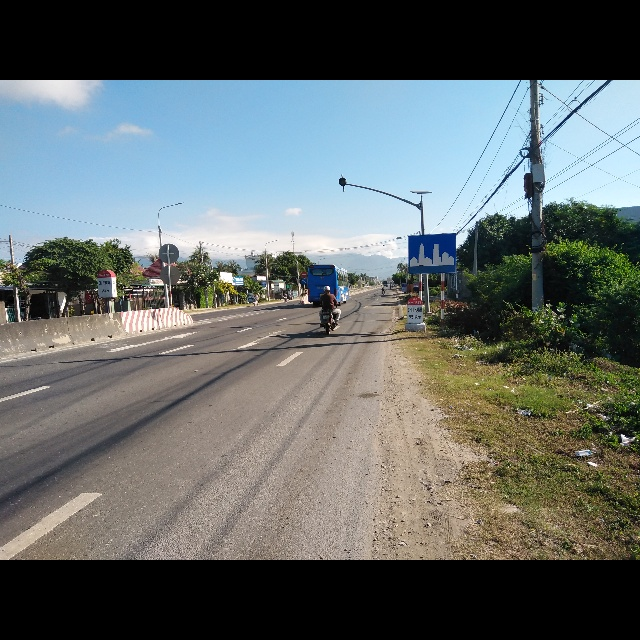Khu đông dân cư: (404, 235, 456, 275)
